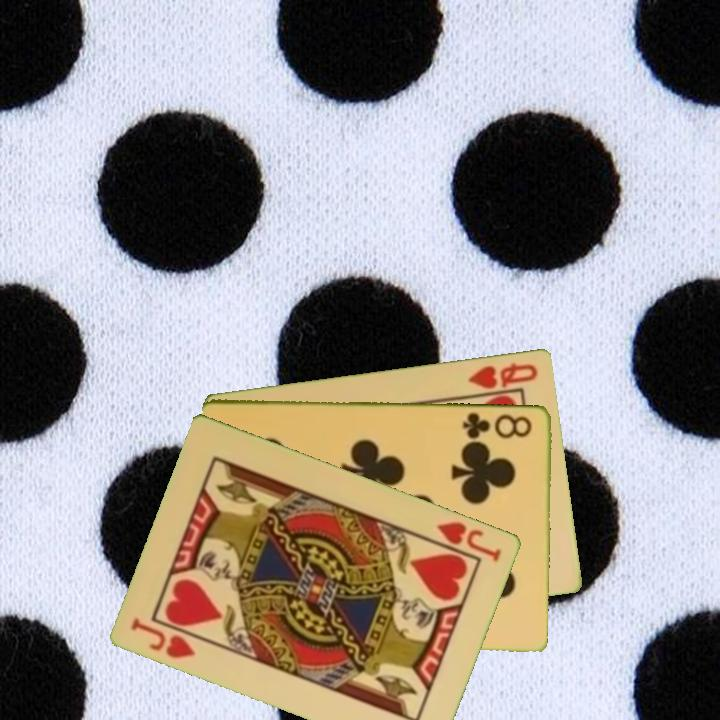8c: (460, 408, 536, 441)
Jh: (128, 614, 199, 662), (433, 517, 505, 564)
Qh: (465, 358, 541, 391)
